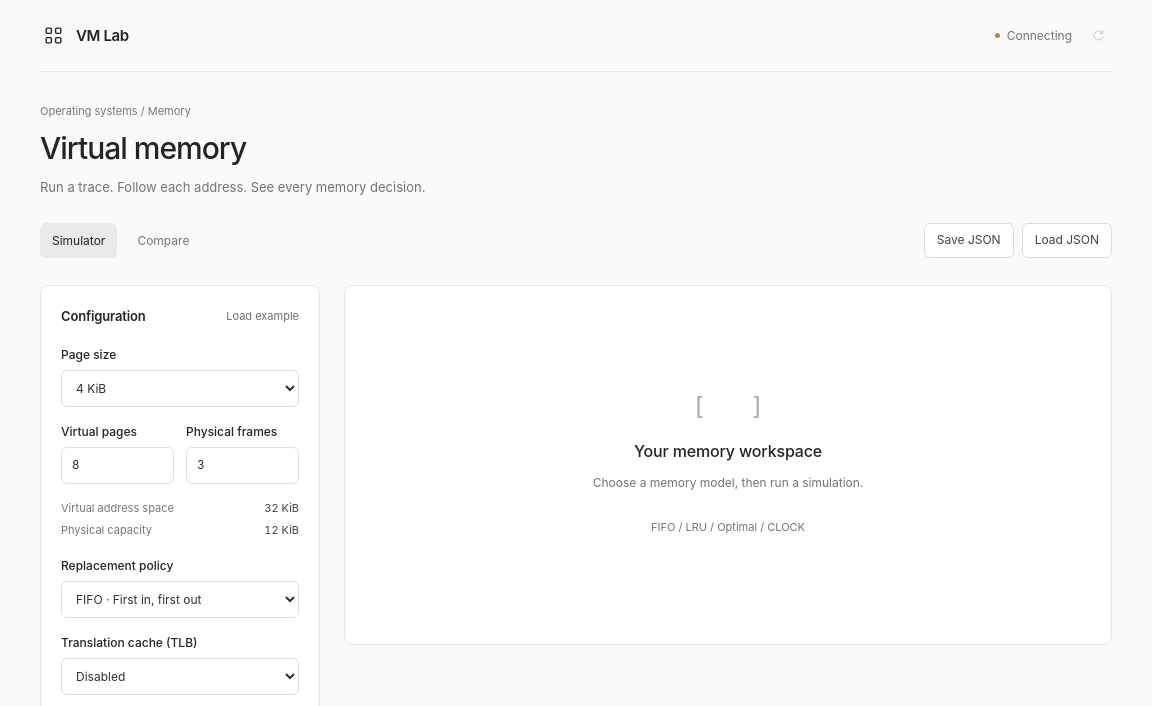
Test: interactive simulation › renders optimal metadata from the selected snapshot
Replace the text in the number field labelled "Physical frames" with "2" at (242,465), box [186,447,299,484]
(page scrolled)
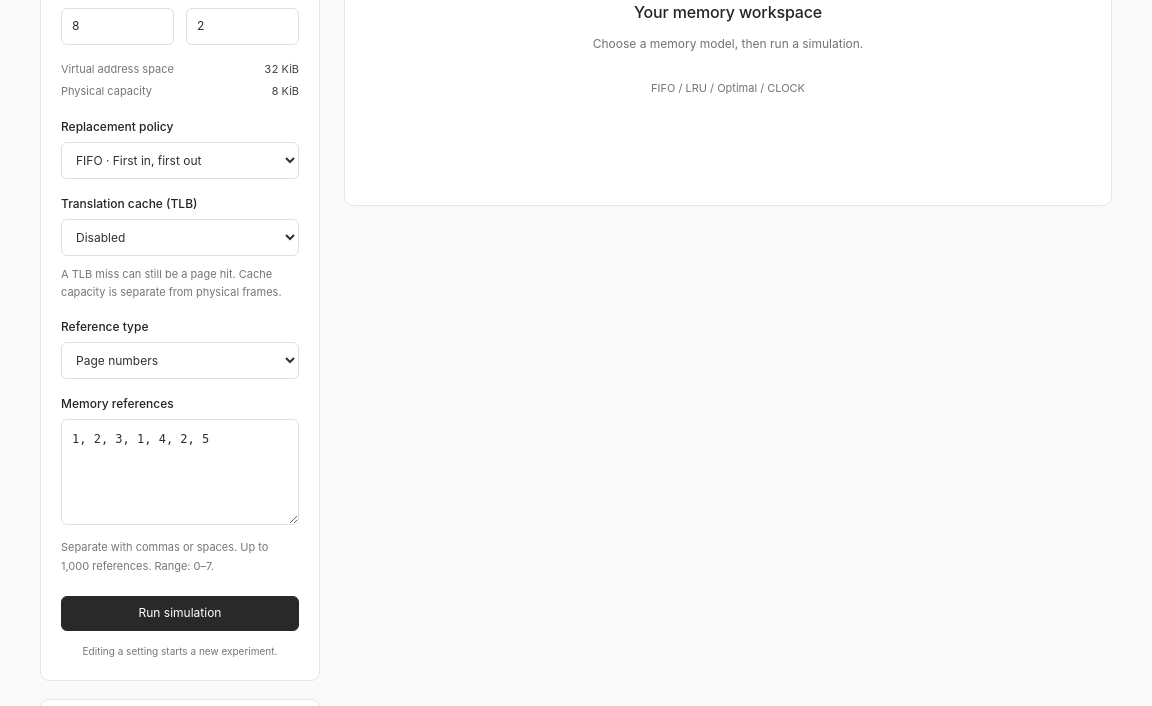
Select "Virtual byte addresses" in the dropdown labelled "Reference type" at (180,361), box [61,342,299,379]
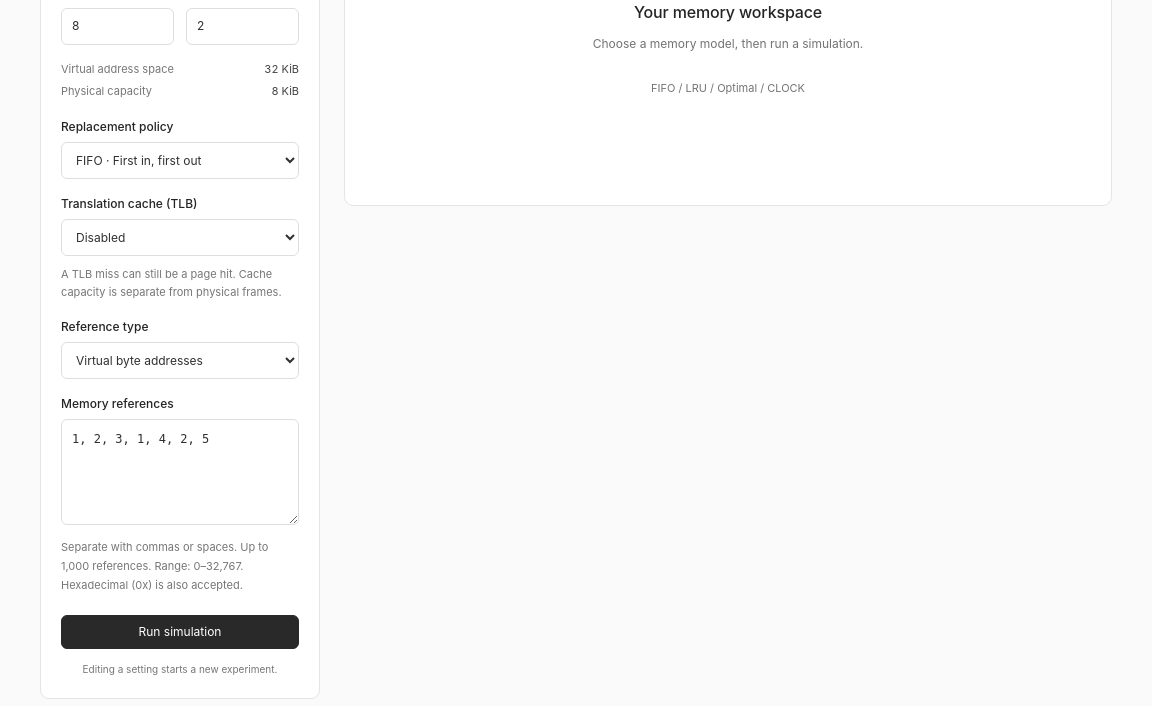
Replace the text in the text box labelled "Memory references" with "0, 4097, 0, 8194" at (180,472), box [61,419,299,526]
Select "Optimal · Offline benchmark" in the dropdown labelled "Replacement policy" at (180,160), box [61,142,299,179]
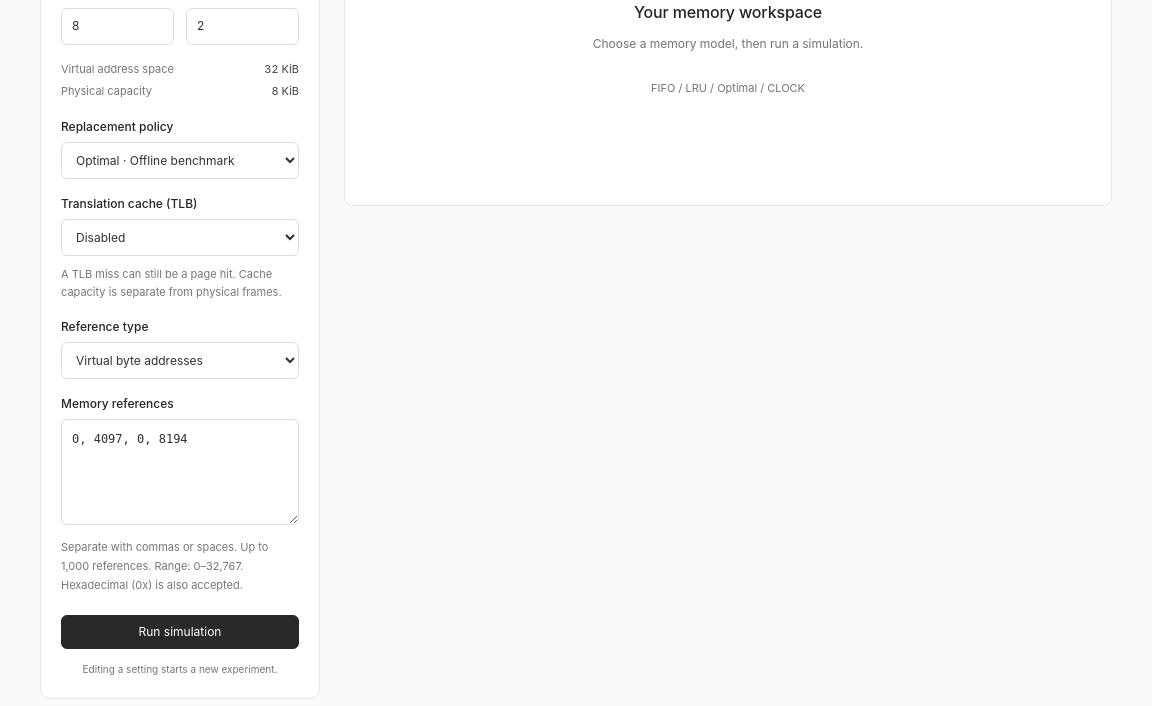
Click the button "Run simulation" at (180,632), box [61,614,299,649]
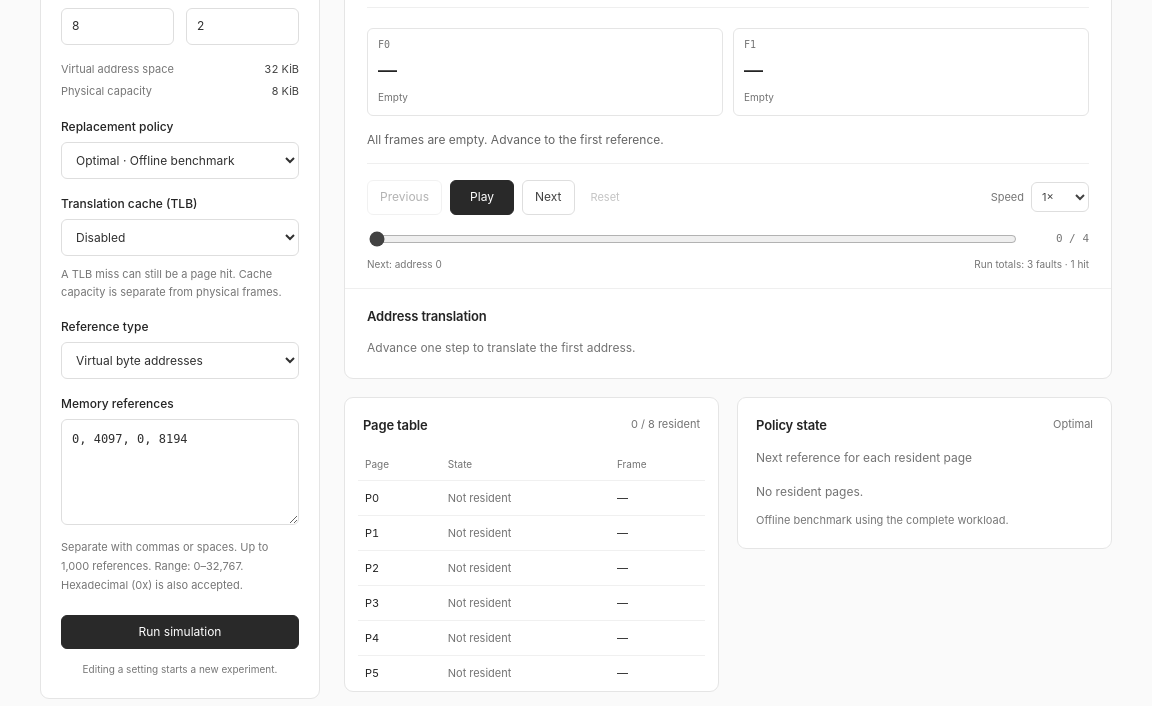
Set the slider named "Simulation step" to "4" at (1009,239), box [369,231,1017,247]
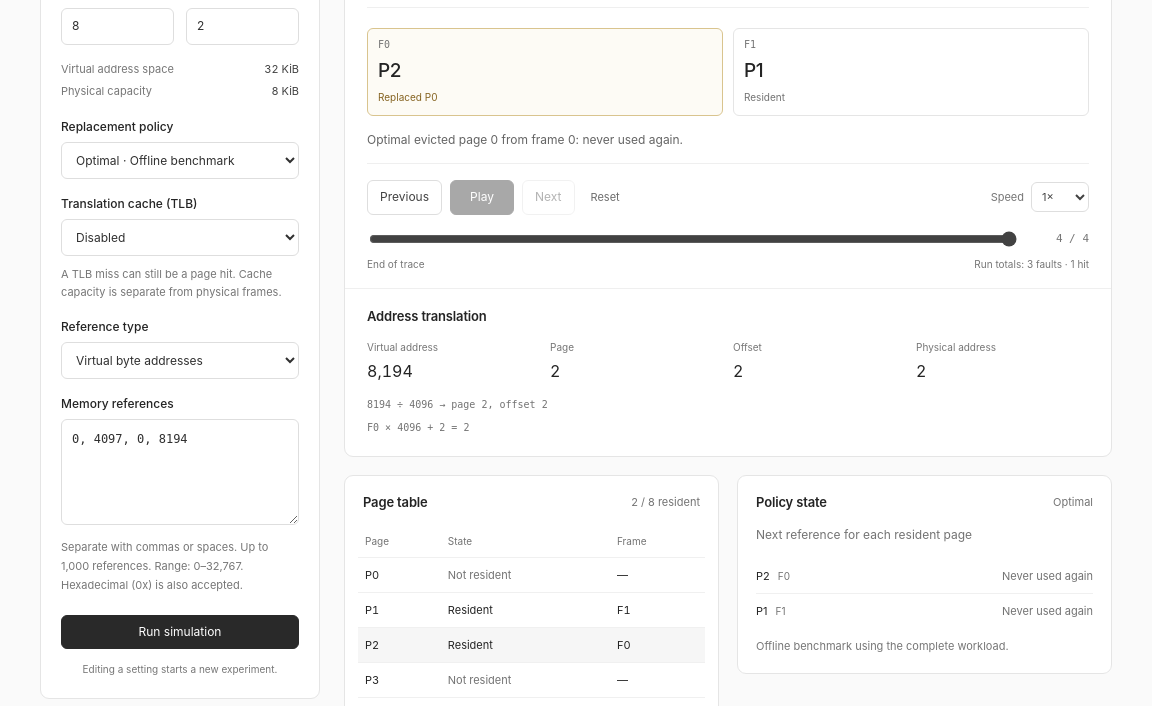
Now the element "Policy state" shows "Next reference", box [756,527,972,542]
Now the element "Policy state" shows "Never used again", box [1002,569,1093,583]
Click the button "Reset" at (605,197), box [582,182,628,212]
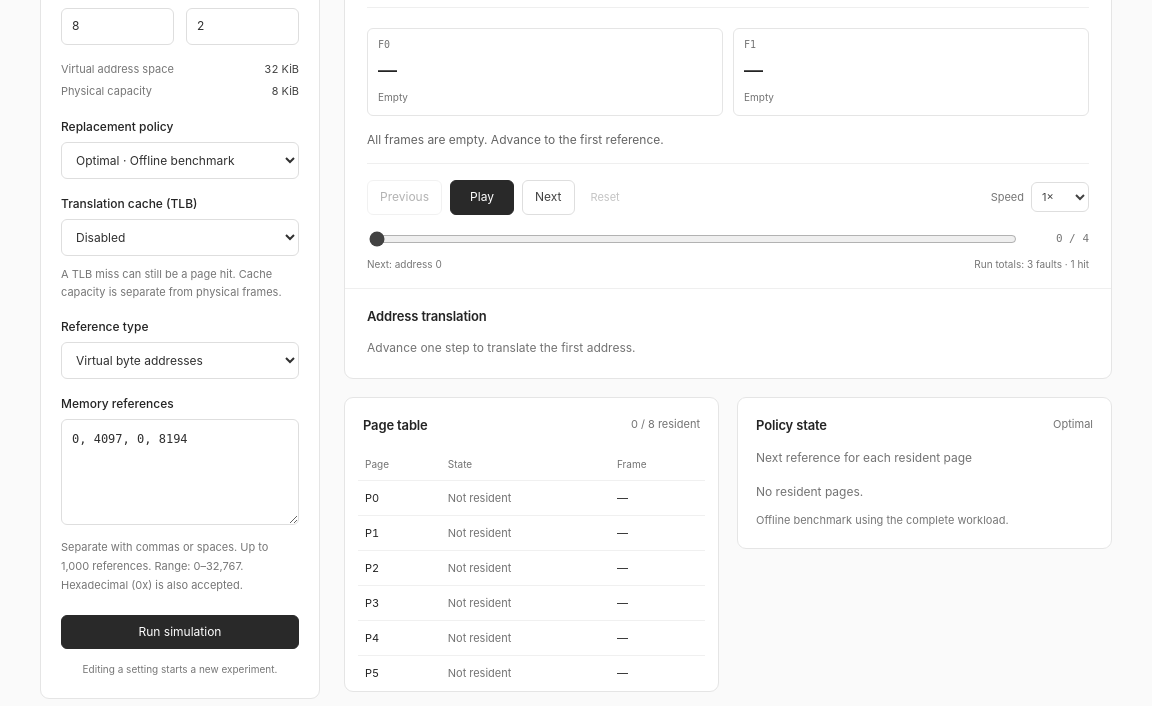
Now the element "Policy state" shows "No resident pages.", box [756,484,863,499]
